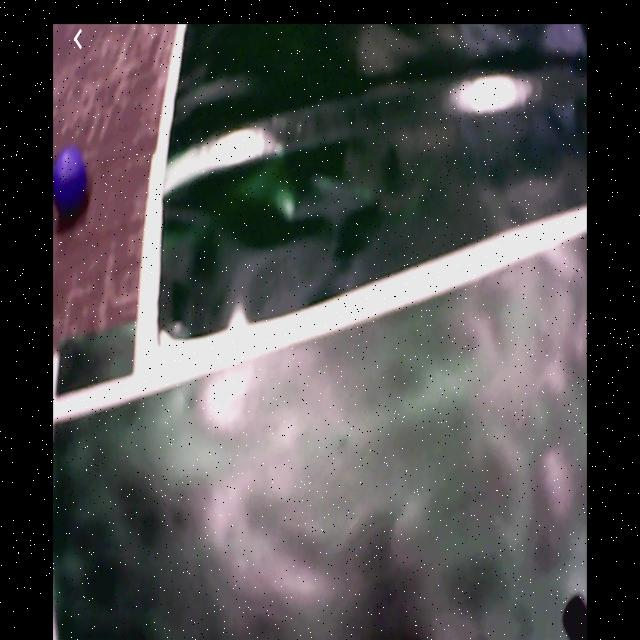ball: (56, 151, 88, 213)
